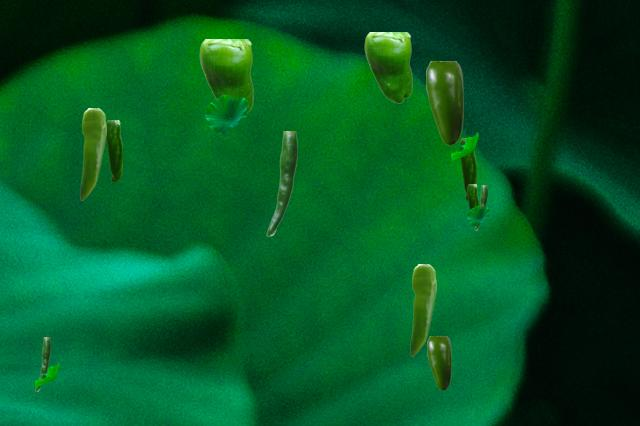green_chili: (199, 39, 252, 112), (364, 32, 411, 102), (266, 131, 296, 235), (426, 61, 462, 144), (410, 264, 435, 355), (80, 108, 105, 199), (427, 336, 450, 389), (459, 138, 475, 199), (106, 120, 121, 181), (35, 337, 49, 390), (474, 185, 486, 229), (467, 184, 477, 208)
